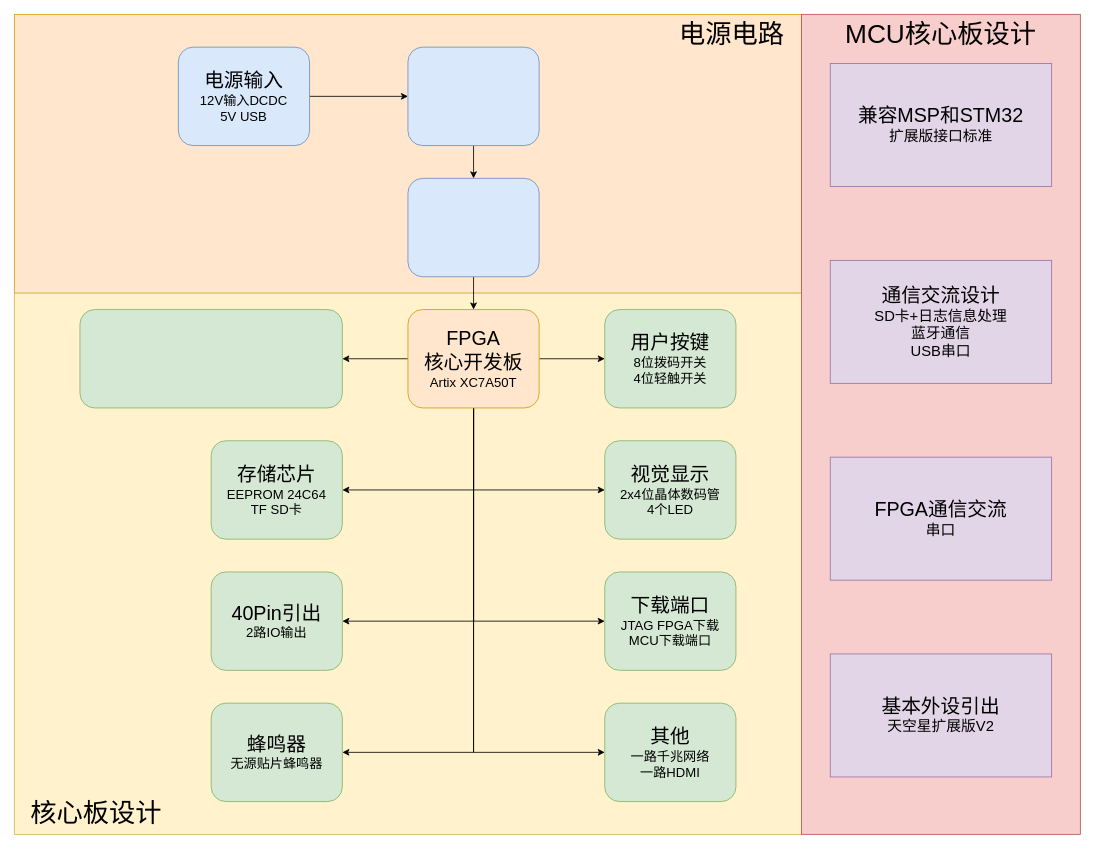
This 1095x849 diagram has some shape labels left out. Each missing label, with the centre of its shape:
"3V3输出 DCDC3V3输出 输出" belongs at point (473, 227).
"DCDC降压 12V DCDC输出5V" belongs at point (473, 96).
"核心功能按键 一个FPGA Reset 一个MCU Reset 一个全局Reset 一个Prog" belongs at point (210, 358).
